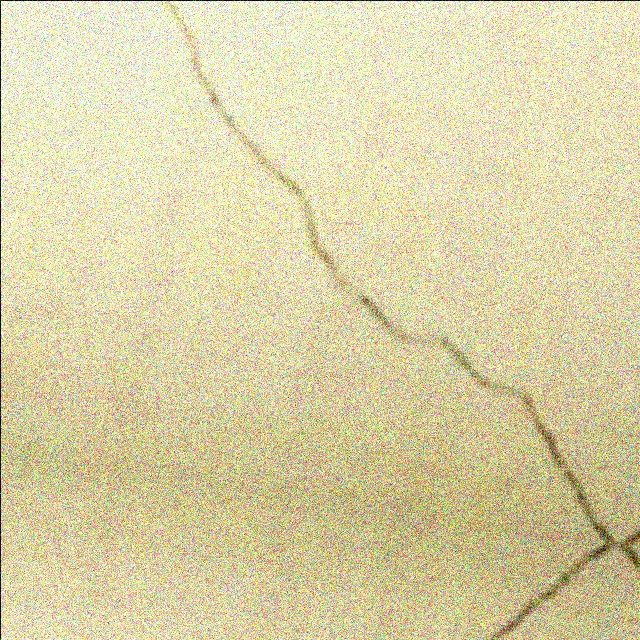SurfaceCrack: (160, 0, 630, 528), (464, 500, 640, 640)
